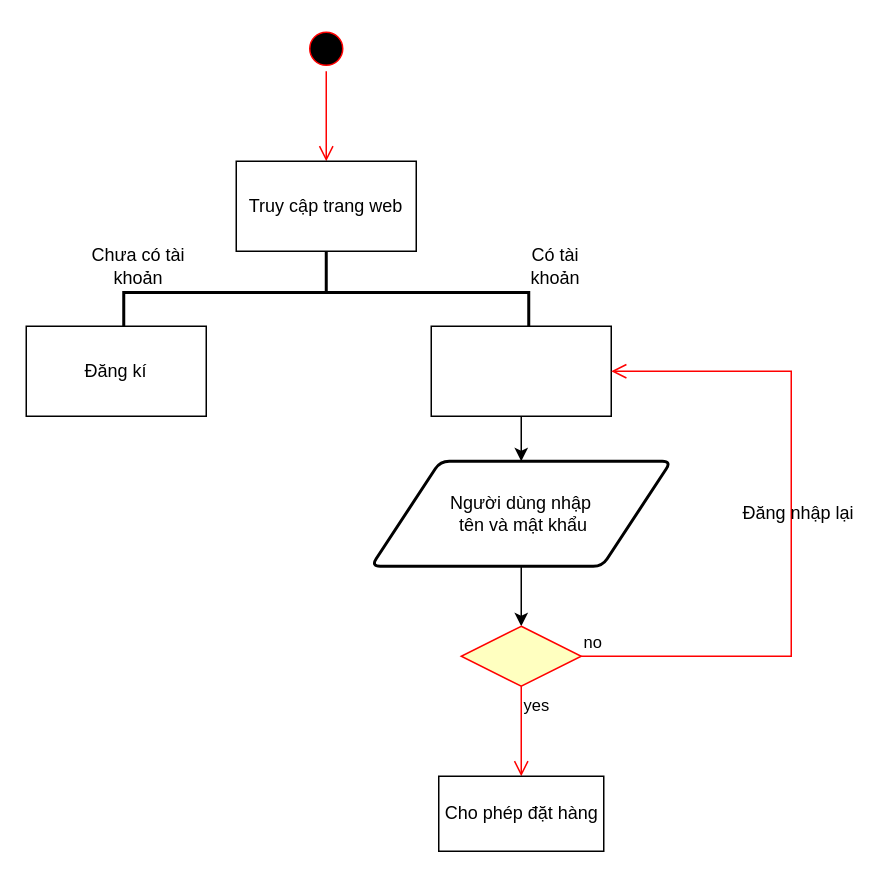
Some shapes in this 893 by 878 pixel diagram are drawn without their labels. The box of each missing label's shape, as (x1, y1, x2, y2) in pixels:
Kiểm tra: (460, 625, 581, 686)
Đăng nhập: (430, 325, 611, 416)
